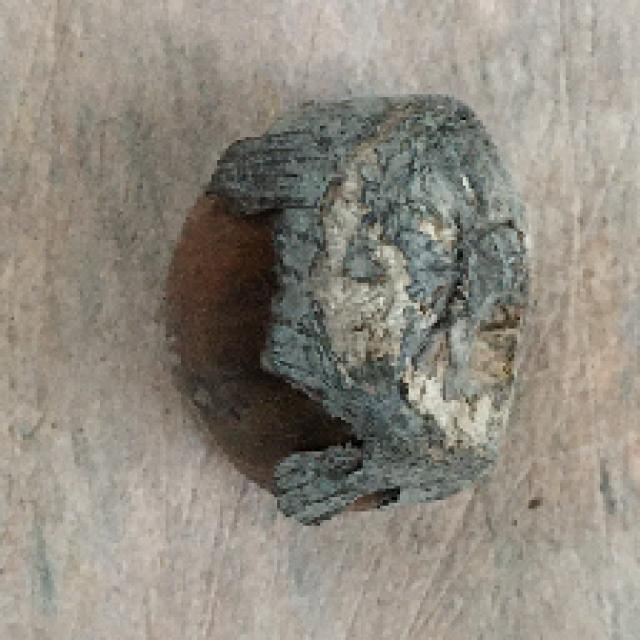DamagedHazelnut: (169, 93, 530, 521)
